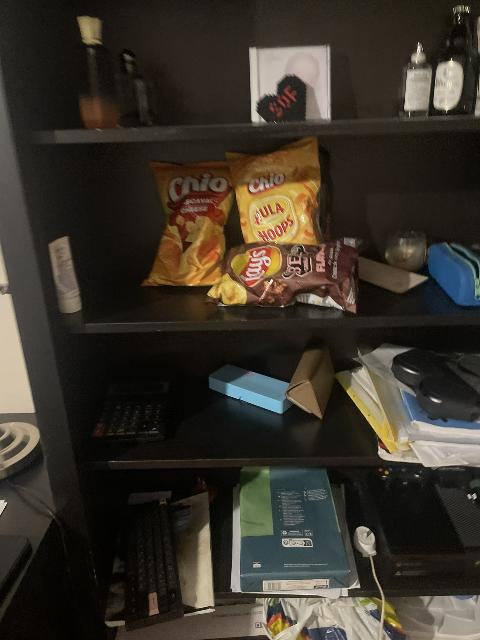Chio Cascaval 125g: (139, 159, 236, 289)
Chio Hula Hoops Cheese 70g: (228, 136, 323, 252)
Lays Beef Grilled Ribs 125g: (213, 240, 359, 313)
